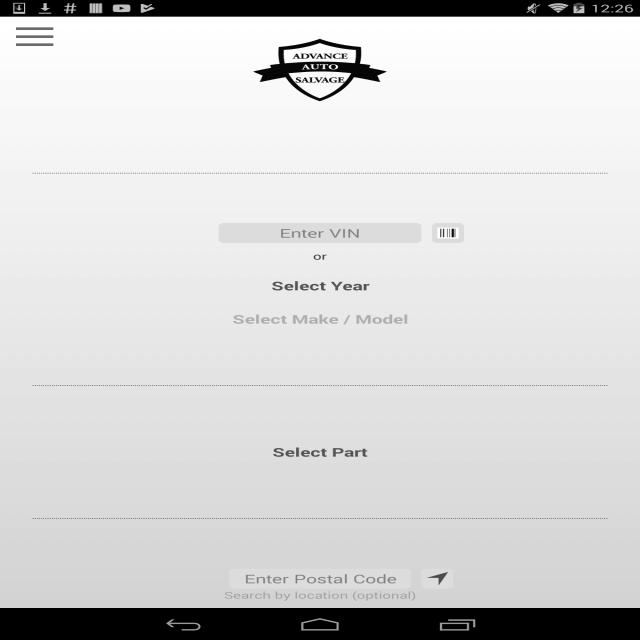Button: (187, 302, 453, 336), (187, 435, 453, 469), (187, 269, 453, 302)
EditText: (219, 223, 421, 243), (229, 568, 411, 588)
ImageButton: (432, 223, 464, 243), (422, 568, 454, 588)
ImageView: (197, 20, 443, 120)
TextView: (224, 589, 416, 601), (313, 250, 327, 262)
